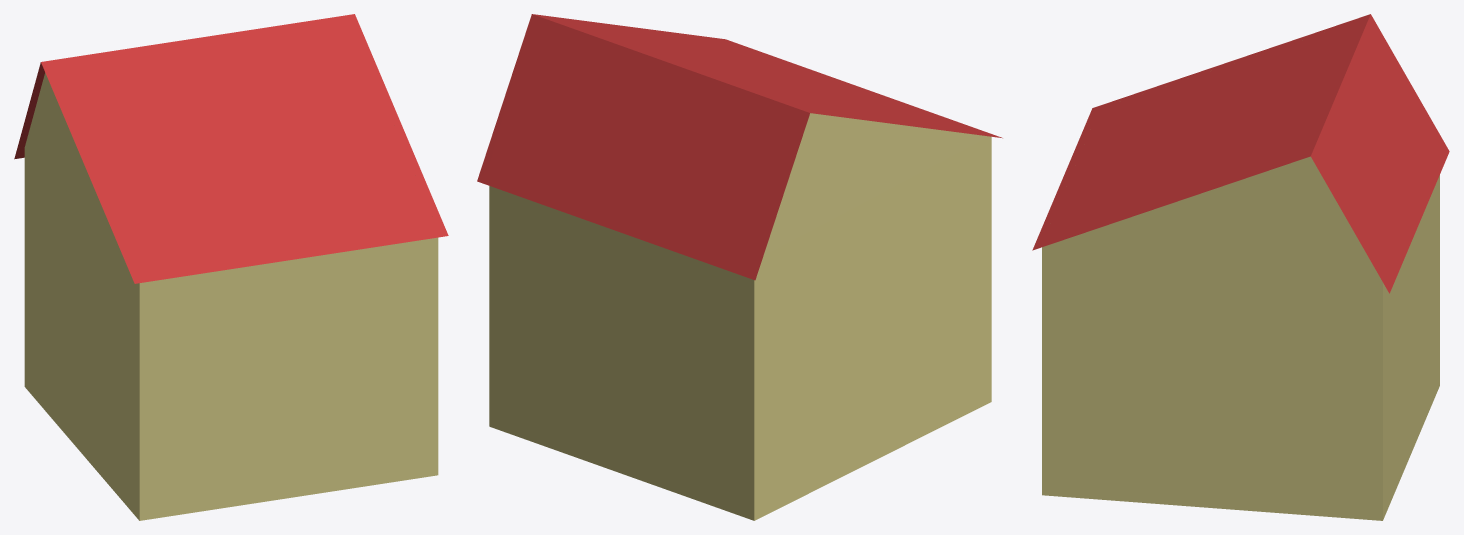
3 views of the same model, side by side, from view 1: azimuth 30°, elevation 25°; view 2: azimuth 150°, elevation 25°; view 3: azimuth 270°, elevation 25° (orthographic). The views are drawn at different scales.
Bounding box in the file's own units: 12.21 × 12.72 × 12.19.
